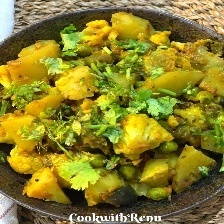sabzi: (1, 11, 224, 209)
